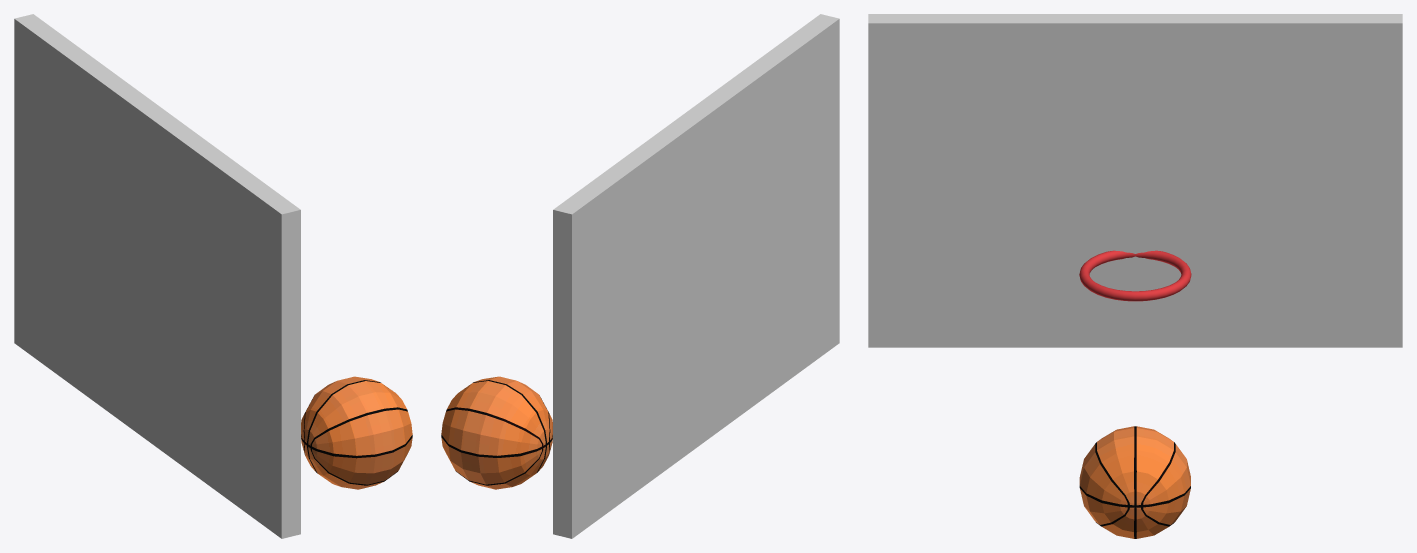
File: table5.gltf
3 renders of one model, left to right at view 1: azimuth 30°, elevation 25°; view 2: azimuth 150°, elevation 25°; view 3: azimuth 270°, elevation 25°, orthographic.
Visible parts, largest first — view 1: board, Ball; view 2: board, Ball; view 3: board, Ball, Ring.
Part boxes in pixels (box(x1,y1,x2,y2)): board: box(14, 14, 300, 538); Ball: box(301, 376, 412, 489); board: box(553, 14, 839, 538); Ball: box(441, 376, 552, 489); board: box(868, 14, 1402, 347); Ball: box(1079, 426, 1190, 538); Ring: box(1079, 250, 1191, 301).
Size of the model in its own units: 2.91 by 4.51 by 5.24.
Materials: 3 (1 with a texture image).
